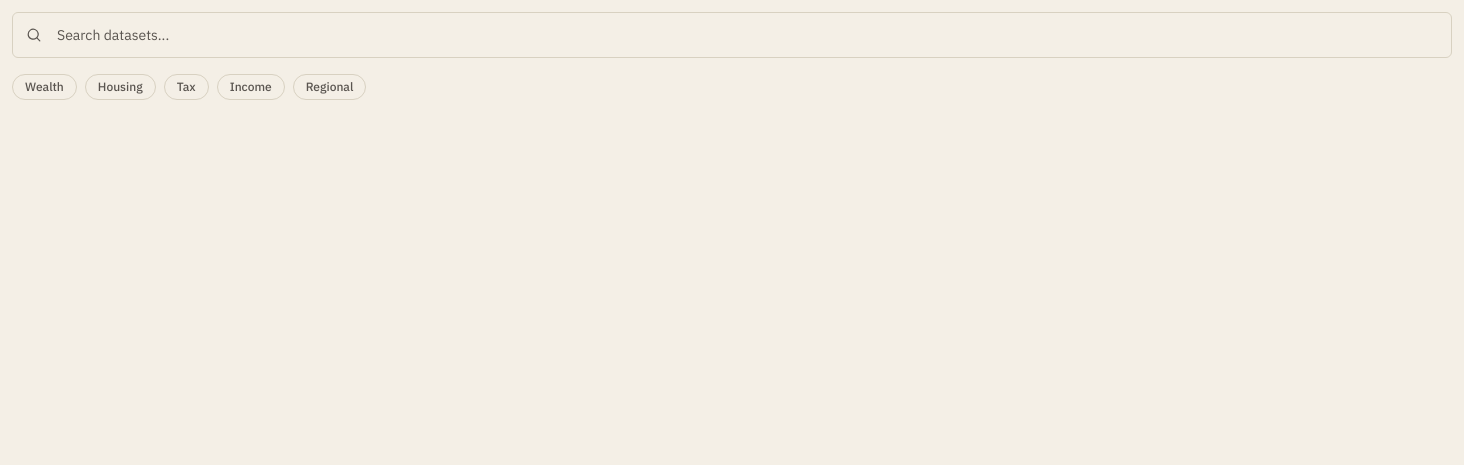
Test: DatasetSearch › shows results when user types a query
Type "wealth" into the dropdown with placeholder "Search datasets..." at x=732, y=35, box [12, 12, 1452, 58]
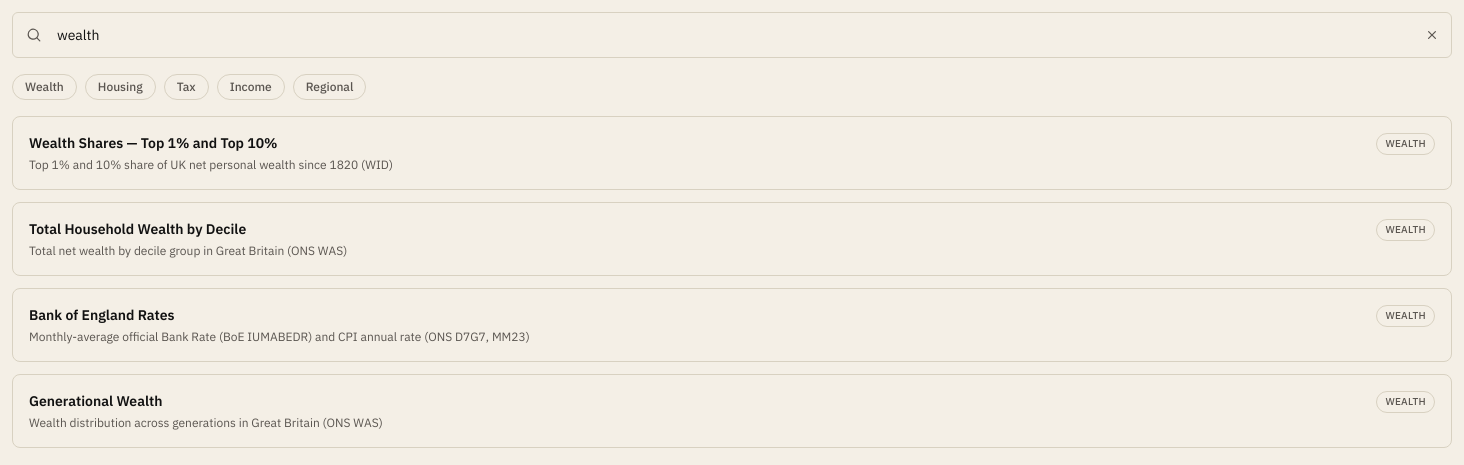
Result: the list with id "dataset-search-results" is shown
